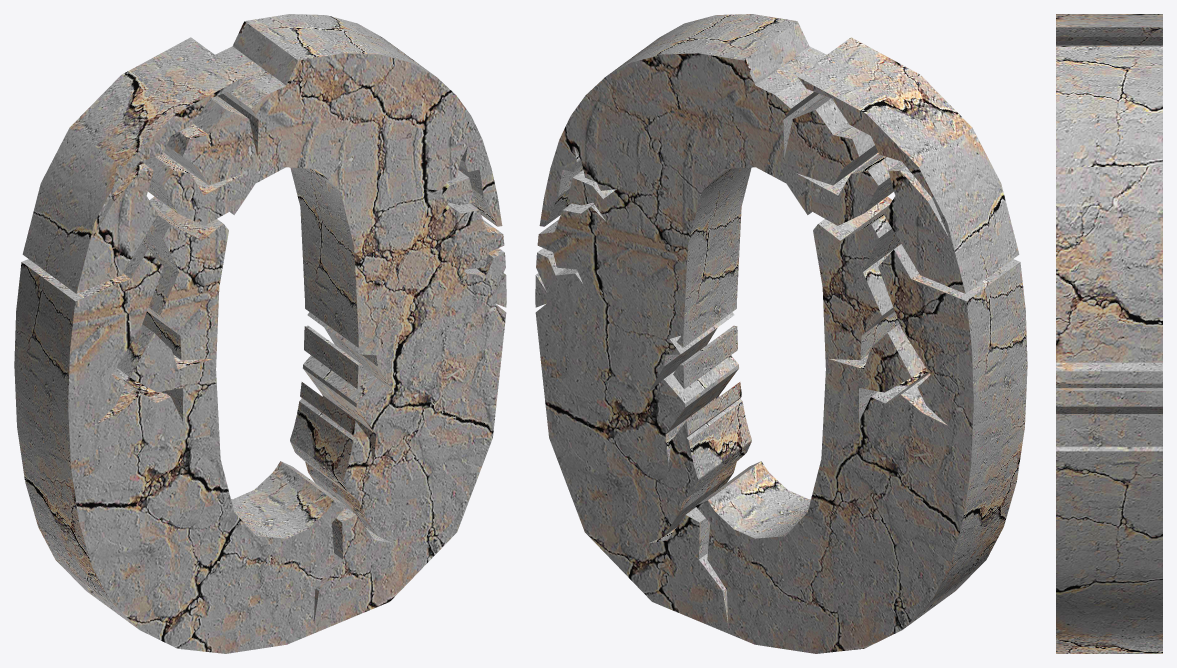
3 views of the same model, side by side, from view 1: azimuth 30°, elevation 25°; view 2: azimuth 150°, elevation 25°; view 3: azimuth 270°, elevation 25° (orthographic).
Parts seen in each view (by area): view 1: 0; view 2: 0; view 3: 0.
Part boxes in pixels (x1,y1,x2,y2): 0: (14,14,506,653); 0: (535,14,1027,653); 0: (1056,14,1162,653).
Bounding box in the file's own units: 70.55 × 89.41 × 15.
Materials: 1 (1 with a texture image).
